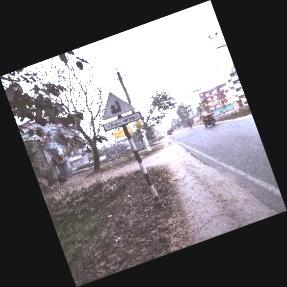Mosque in front: (100, 92, 142, 139)
